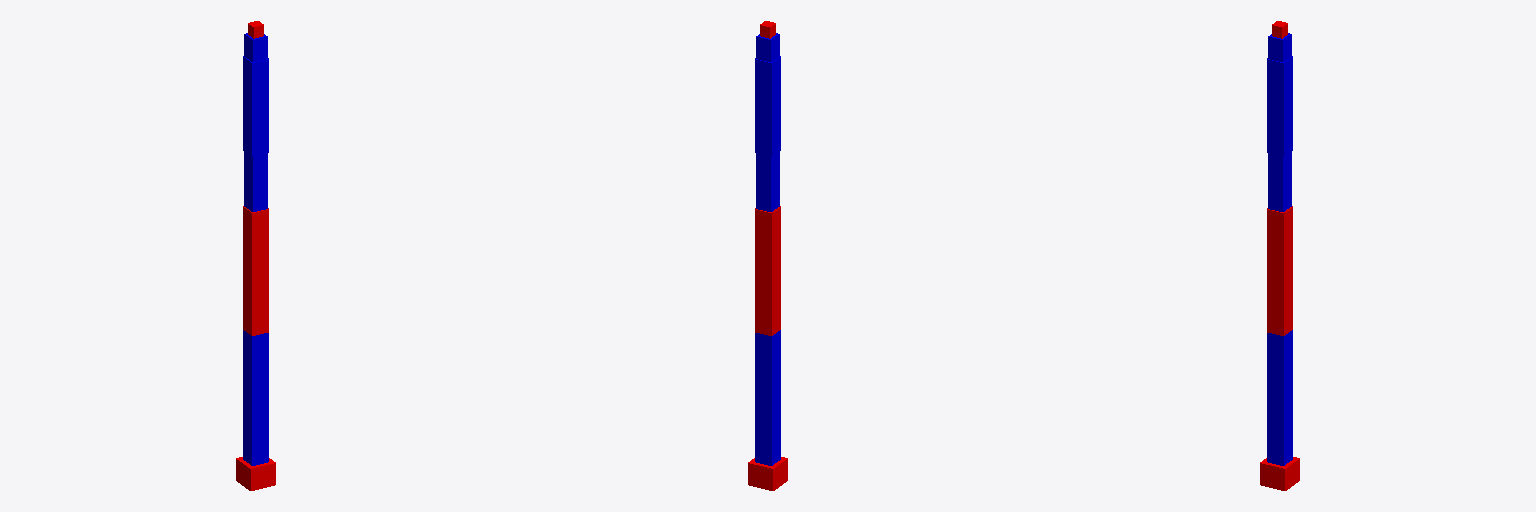
robot.urdf — armdemo:
<?xml version="1.0" ?>
<robot name="armdemo">

  <material name="red">
    <color rgba="1.0 0.0 0.0 1.0"/>
  </material>
  <material name="green">
    <color rgba="0.0 1.0 0.0 1.0"/>
  </material>
  <material name="blue">
    <color rgba="0.0 0.0 1.0 1.0"/>
  </material>

  <!-- base(world) -->
  <link name="base_link"/>
  
  <!-- base joint  -->
  <joint name="base_joint" type="fixed">
    <parent link="base_link"/>
    <child link="link1"/>
  </joint>
 
  <!-- Link1 link & joint -->
  <link name="link1">
    <collision>
      <origin rpy="0 0 0" xyz="0 0 0.05"/>
      <geometry>
        <box size="0.12 0.12 0.1"/>
      </geometry>
    </collision>
    <visual>
      <origin rpy="0 0 0" xyz="0 0 0.05"/>
      <geometry>
        <box size="0.12 0.12 0.1"/>
      </geometry>
      <material name="red"/>
    </visual>
    <inertial>
      <origin rpy="0 0 0" xyz="0 0 0.05"/>
      <mass value="1.24"/>
      <inertia ixx="0.002524" ixy="0.0" ixz="0.0" iyy="0.002524" iyz="0.0" izz="0.002979"/>
    </inertial>
  </link>
   <joint name="joint1" type="revolute">
    <parent link="link1"/>
    <child link="link2"/>
    <origin rpy="0 0 0" xyz="0 0 0.1"/>
    <axis xyz="0 0 1"/>
    <limit effort="30" lower="-2.617" upper="2.617" velocity="1.571"/>
  </joint>
  
  <!-- Link2 link & joint -->
  <link name="link2">
    <collision>
      <origin rpy="0 0 0" xyz="0 0 0.29"/>
      <geometry>
        <box size="0.08 0.08 0.58"/>
      </geometry>
    </collision>
    <visual>
      <origin rpy="0 0 0" xyz="0 0 0.29"/>
      <geometry>
        <box size="0.08 0.08 0.58"/>
      </geometry>
      <material name="blue"/>
    </visual>
    <inertial>
      <origin rpy="0 0 0" xyz="0 0 0.29"/>
      <mass value="3.20"/>
      <inertia ixx="0.09142" ixy="0.0" ixz="0.0" iyy="0.09142" iyz="0.0" izz="0.003413"/>
    </inertial>
  </link>
  <joint name="joint2" type="revolute">
    <parent link="link2"/>
    <child link="link3"/>
    <origin rpy="0 0 0" xyz="0 0 0.58"/>
    <axis xyz="0 1 0"/>
    <limit effort="30" lower="0" upper="2.617" velocity="1.571"/>
  </joint>
  
  <!-- Link3 link & joint -->
 
  <link name="link3">
    <collision>
      <origin rpy="0 0 0" xyz="0 0 0.275"/>
      <geometry>
        <box size="0.08 0.08 0.55"/>
      </geometry>
    </collision>
    <visual>
      <origin rpy="0 0 0" xyz="0 0 0.275"/>
      <geometry>
        <box size="0.08 0.08 0.55"/>
      </geometry>
      <material name="red"/>
    </visual>
    <inertial>
      <origin rpy="0 0 0" xyz="0 0 0.275"/>
      <mass value="3.03"/>
      <inertia ixx="0.078118" ixy="0.0" ixz="0.0" iyy="0.078118" iyz="0.0" izz="0.003237"/>
    </inertial>
  </link>
  <joint name="joint3" type="revolute">
    <parent link="link3"/>
    <child link="link4"/>
    <origin rpy="0 0 0" xyz="0 0 0.55"/>
    <axis xyz="0 1 0"/>
    <limit effort="30" lower="0" upper="2.617" velocity="1.571"/>
  </joint>

  <!-- Link4 link & joint -->
 
  <link name="link4">
    <collision>
      <origin rpy="0 0 0" xyz="0 0 0.075"/>
      <geometry>
        <box size="0.07 0.07 0.15"/>
      </geometry>
    </collision>
    <visual>
      <origin rpy="0 0 0" xyz="0 0 0.075"/>
      <geometry>
        <box size="0.07 0.07 0.15"/>
      </geometry>
      <material name="blue"/>
    </visual>
    <inertial>
      <origin rpy="0 0 0" xyz="0 0 0.075"/>
      <mass value="0.63"/>
      <inertia ixx="0.001446" ixy="0.0" ixz="0.0" iyy="0.001446" iyz="0.0" izz="0.000517"/>
    </inertial>
  </link>
  <joint name="joint4" type="revolute">
    <parent link="link4"/>
    <child link="link5"/>
    <origin rpy="0 0 0" xyz="0 0 0.15"/>
    <axis xyz="0 0 1"/>
    <limit effort="30" lower="-2.617" upper="2.617" velocity="1.571"/>
  </joint>

  <!-- Link5 link & joint -->
  <link name="link5">
        <collision>
      <origin rpy="0 0 0" xyz="0 0 0.05"/>
      <geometry>
        <box size="0.07 0.07 0.1"/>
      </geometry>
    </collision>
    <visual>
      <origin rpy="0 0 0" xyz="0 0 0.05"/>
      <geometry>
        <box size="0.07 0.07 0.1"/>
      </geometry>
      <material name="blue"/>
    </visual>
    <inertial>
      <origin rpy="0 0 0" xyz="0 0 0.05"/>
      <mass value="0.42"/>
      <inertia ixx="0.000524" ixy="0.0" ixz="0.0" iyy="0.000524" iyz="0.0" izz="0.000345"/>
    </inertial>
  </link>
  <joint name="joint5" type="revolute">
    <parent link="link5"/>
    <child link="link6"/>
    <origin rpy="0 0 0" xyz="0 0 0.1"/>
    <axis xyz="0 1 0"/>
    <limit effort="30" lower="0" upper="2.617" velocity="1.571"/>
  </joint>
  
  <!-- Link6 link & joint -->
  
  <link name="link6">
    <collision>
      <origin rpy="0 0 0" xyz="0 0 0.21"/>
      <geometry>
        <box size="0.08 0.08 0.42"/>
      </geometry>
    </collision>
    <visual>
      <origin rpy="0 0 0" xyz="0 0 0.21"/>
      <geometry>
        <box size="0.08 0.08 0.42"/>
      </geometry>
      <material name="blue"/>
    </visual>
    <inertial>
      <origin rpy="0 0 0" xyz="0 0 0.21"/>
      <mass value="2.32"/>
      <inertia ixx="0.035302" ixy="0.0" ixz="0.0" iyy="0.035302" iyz="0.0" izz="0.002471"/>
    </inertial>
  </link>
  <joint name="joint6" type="revolute">
    <parent link="link6"/>
    <child link="link7"/>
    <origin rpy="0 0 0" xyz="0 0 0.42"/>
    <axis xyz="0 1 0"/>
    <limit effort="30" lower="0" upper="2.617" velocity="1.571"/>
  </joint>

  <!-- Link7 link & joint -->
  <link name="link7">
    <collision>
      <origin rpy="0 0 0" xyz="0 0 0.05"/>
      <geometry>
        <box size="0.07 0.07 0.1"/>
      </geometry>
    </collision>
    <visual>
      <origin rpy="0 0 0" xyz="0 0 0.05"/>
      <geometry>
        <box size="0.07 0.07 0.1"/>
      </geometry>
      <material name="blue"/>
    </visual>
    <inertial>
      <origin rpy="0 0 0" xyz="0 0 0.05"/>
      <mass value="0.42"/>
      <inertia ixx="0.000524" ixy="0.0" ixz="0.0" iyy="0.000524" iyz="0.0" izz="0.000345"/>
    </inertial>
  </link>
  <joint name="joint7" type="revolute">
    <parent link="link7"/>
    <child link="link8"/>
    <origin rpy="0 0 0" xyz="0 0 0.1"/>
    <axis xyz="0 0 1"/>
    <limit effort="30" lower="-2.617" upper="2.617" velocity="1.571"/>
  </joint>

 <!-- Link8 (end effector)-->
  <link name="link8">
    <collision>
      <origin rpy="0 0 0" xyz="0 0 0.025"/>
      <geometry>
        <box size="0.05 0.05 0.05"/>
      </geometry>
    </collision>
    <visual>
      <origin rpy="0 0 0" xyz="0 0 0.025"/>
      <geometry>
        <box size="0.05 0.05 0.05"/>
      </geometry>
      <material name="red"/>
    </visual>
    <inertial>
      <origin rpy="0 0 0" xyz="0 0 0.25"/>
      <mass value="0.1"/>
      <inertia ixx="0.000044" ixy="0.0" ixz="0.0" iyy="0.000044" iyz="0.0" izz="0.000044"/>
    </inertial>
  </link>

</robot>

--- Facts derived from the render (not from the file) ---
3 views of the same robot in one strip: view 1: azimuth 30°, elevation 25°; view 2: azimuth 150°, elevation 25°; view 3: azimuth 330°, elevation 25° (orthographic).
Robot: armdemo — 9 links, 8 joints (7 revolute, 1 fixed); root link base_link; default pose: all joints at 0.
Visible links, largest first — view 1: link2, link3, link6, link1, link4, link7; view 2: link2, link3, link6, link1, link4, link7; view 3: link2, link3, link6, link1, link4, link7.
Boxes of the visible links, x1,y1,x2,y2 form: link2: (243, 330, 268, 465); link3: (243, 206, 268, 335); link6: (243, 56, 268, 156); link1: (236, 457, 275, 490); link4: (244, 173, 267, 211); link7: (244, 33, 267, 61); link2: (755, 330, 780, 465); link3: (755, 206, 780, 335); link6: (755, 56, 780, 156); link1: (748, 457, 787, 490); link4: (756, 173, 779, 211); link7: (756, 33, 779, 61); link2: (1267, 330, 1292, 465); link3: (1267, 206, 1292, 335); link6: (1267, 56, 1292, 156); link1: (1260, 457, 1299, 490); link4: (1268, 173, 1291, 211); link7: (1268, 33, 1291, 61).
Bounding box of the posed robot: 0.12 × 0.12 × 2.05 m (x, y, z).
Geometry: primitives only (box / cylinder / sphere), no mesh files.